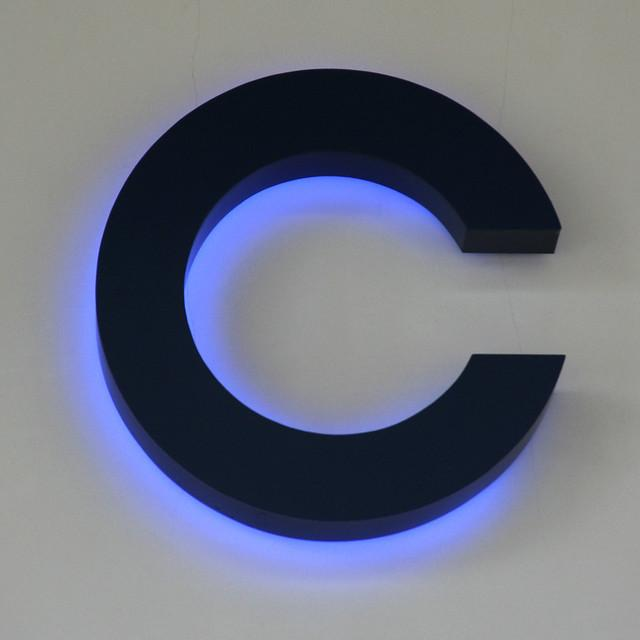C: (44, 20, 600, 568)
